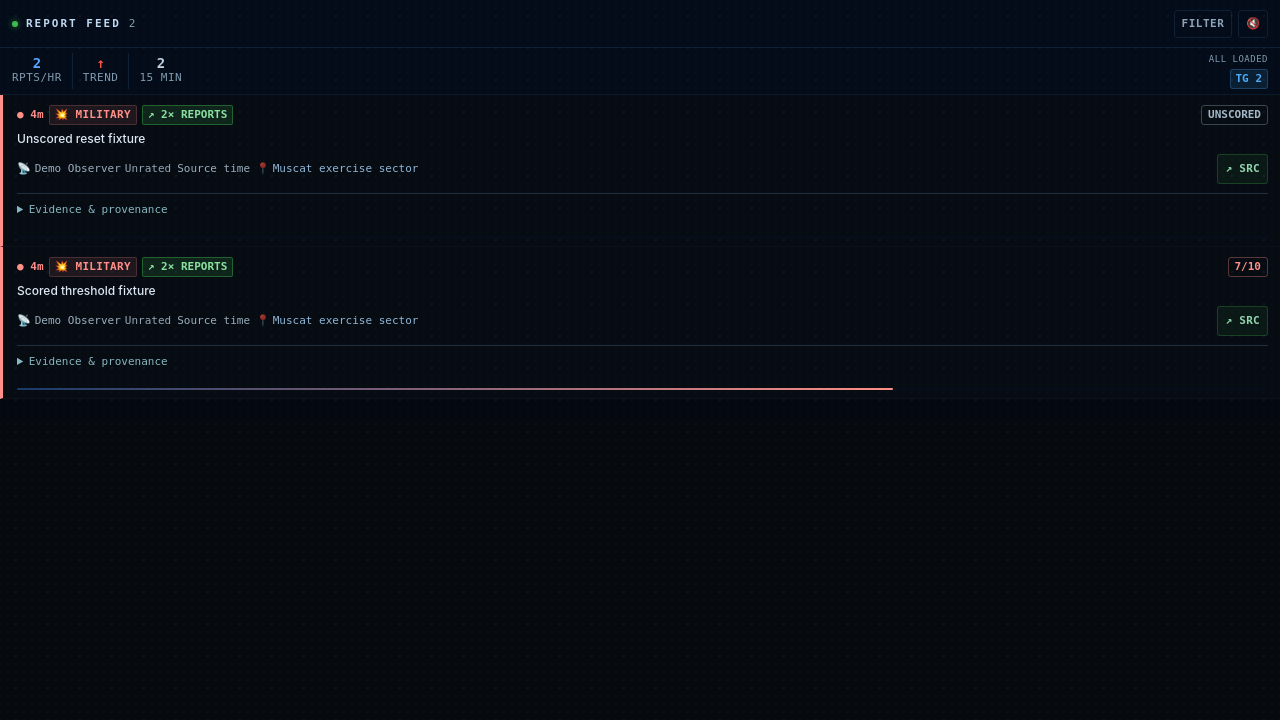
Test: free report integrity › names the severity reset ALL and restores unscored records after a scored threshold
Click the button "FILTER" at (1203, 24), box [1174, 10, 1232, 38]
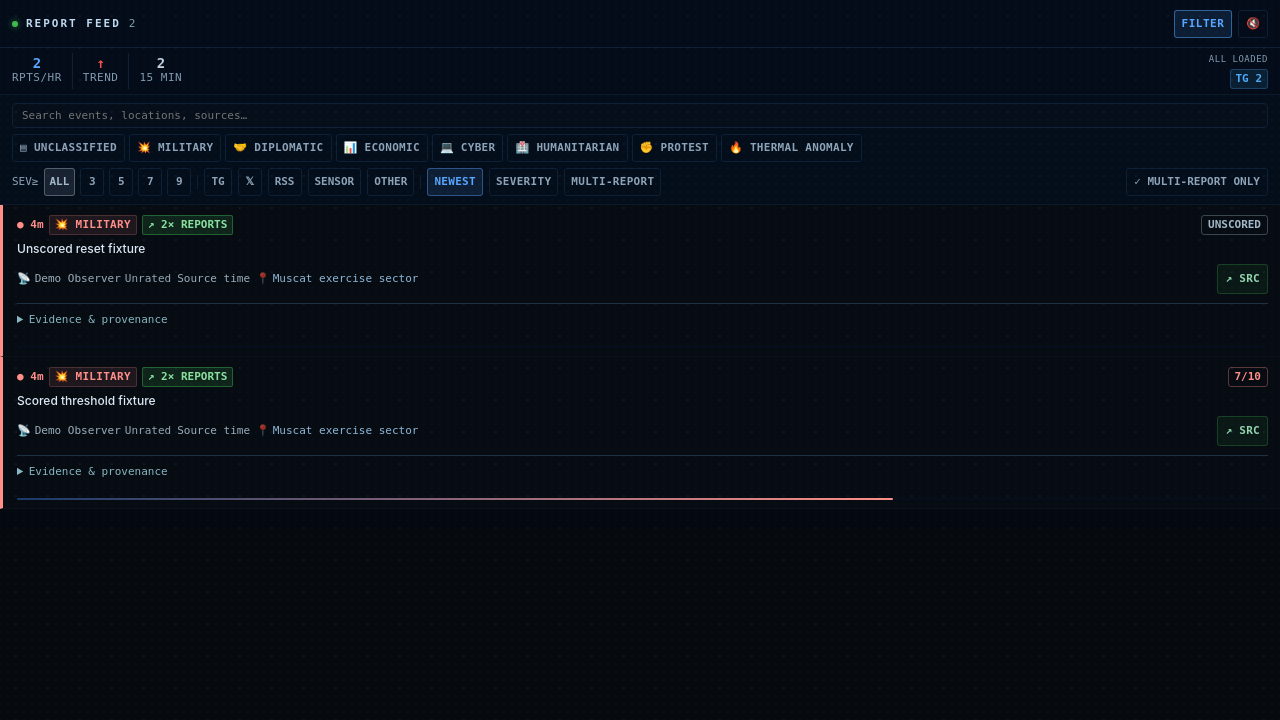
expect the button with aria-label "All severities, including unscored" reads "ALL": met, box [44, 168, 75, 196]
Click the button named "Scored severity 5/10 and above" at (121, 182), box [109, 168, 133, 196]
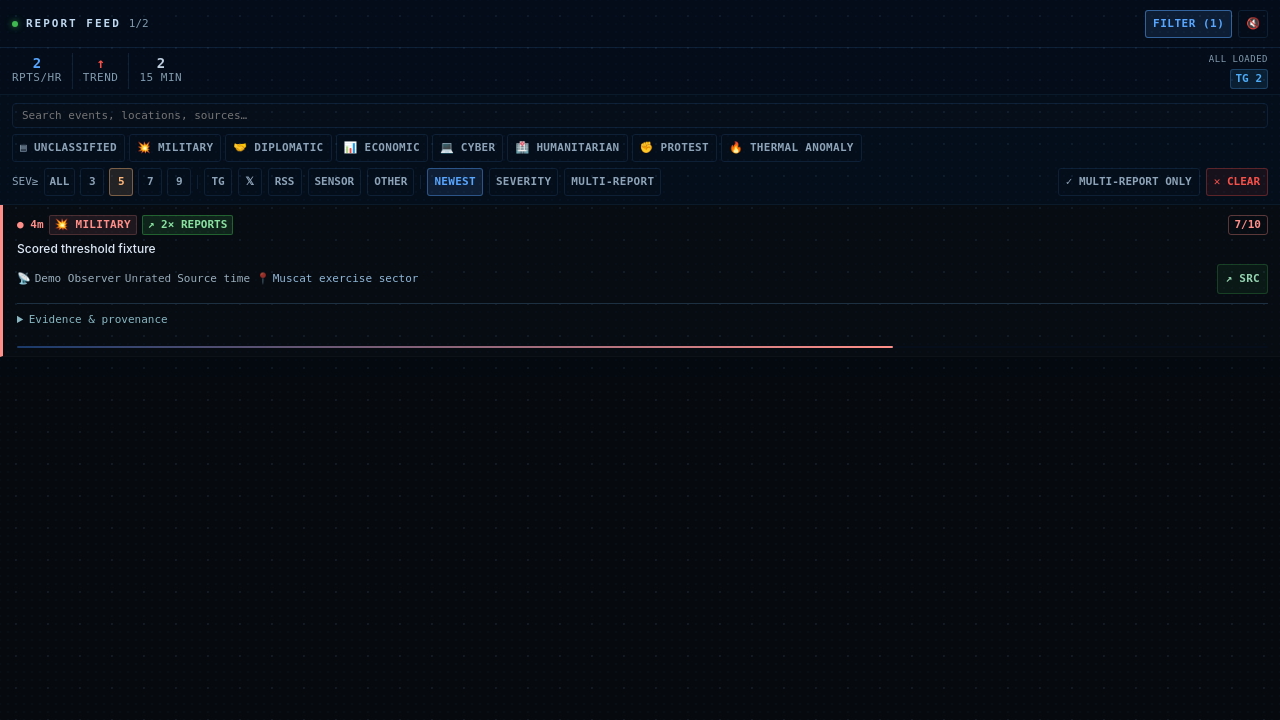
expect the number of elements with class "intel-card" is 1: met, box [0, 205, 1279, 357]
expect the text "Unscored reset fixture" is gone: met
Click the button with aria-label "All severities, including unscored" at (59, 182), box [44, 168, 75, 196]
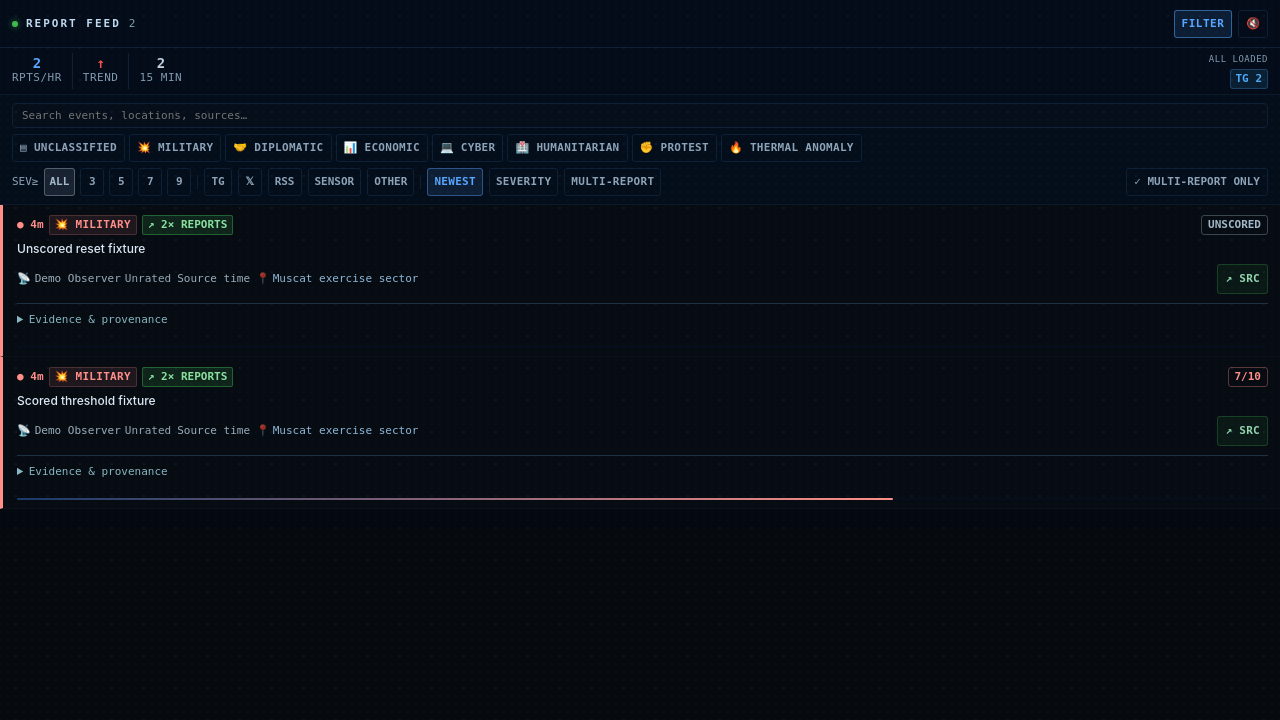
expect the number of elements with class "intel-card" is 2: met, box [0, 205, 1279, 357]; [0, 357, 1279, 509]
expect the text "Unscored reset fixture" is shown: met, box [17, 241, 145, 256]
